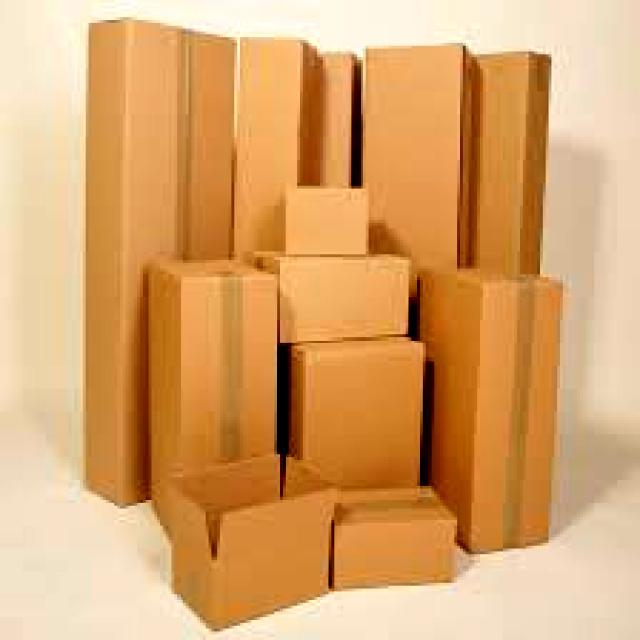Cardboard: (74, 15, 242, 508), (418, 264, 562, 549), (144, 250, 285, 472), (356, 43, 473, 268), (262, 245, 416, 343), (328, 483, 460, 592), (283, 180, 372, 261)
